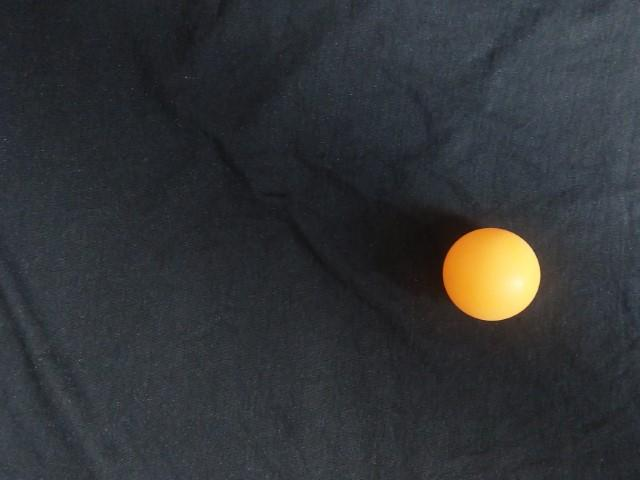oball: (92, 151, 204, 264)
